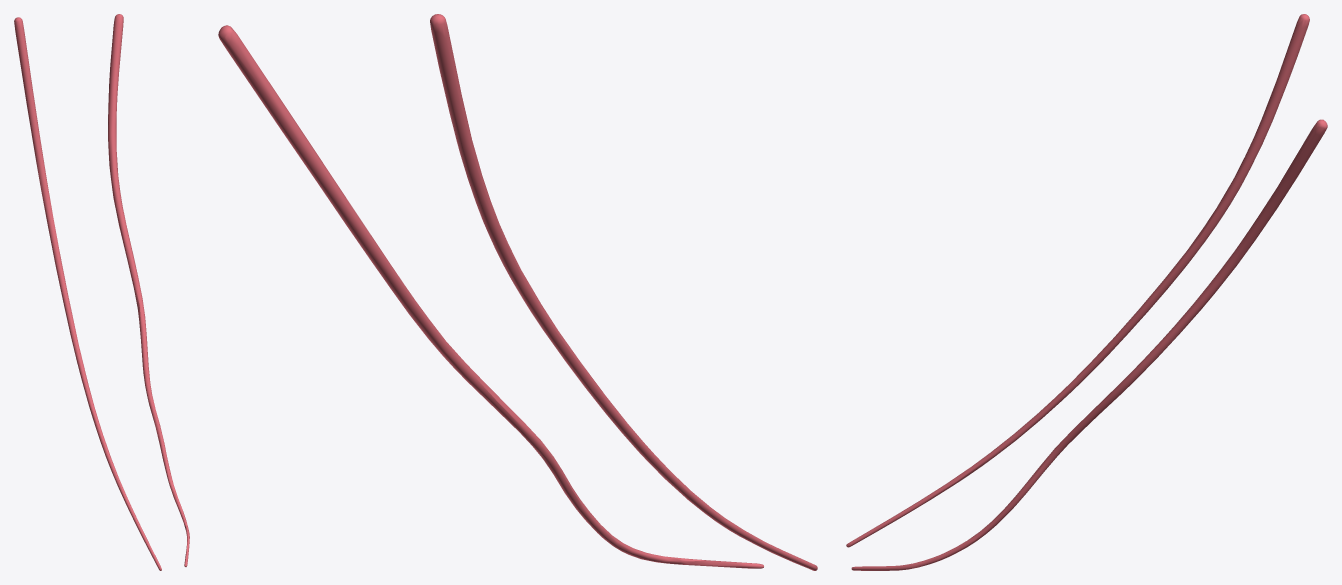
File: fma85098_cx248.glb
3 renders of one model, left to right at view 1: azimuth 30°, elevation 25°; view 2: azimuth 150°, elevation 25°; view 3: azimuth 270°, elevation 25°, orthographic. The views are drawn at different scales.
Parts seen in each view (by area): view 1: FMA85098_CX248; view 2: FMA85098_CX248; view 3: FMA85098_CX248.
Part boxes in pixels (x1,y1,x2,y2): FMA85098_CX248: (14, 14, 189, 570); FMA85098_CX248: (218, 14, 817, 570); FMA85098_CX248: (846, 14, 1327, 570).
Size of the model in its own units: 0.0245 by 0.0692 by 0.0541.
